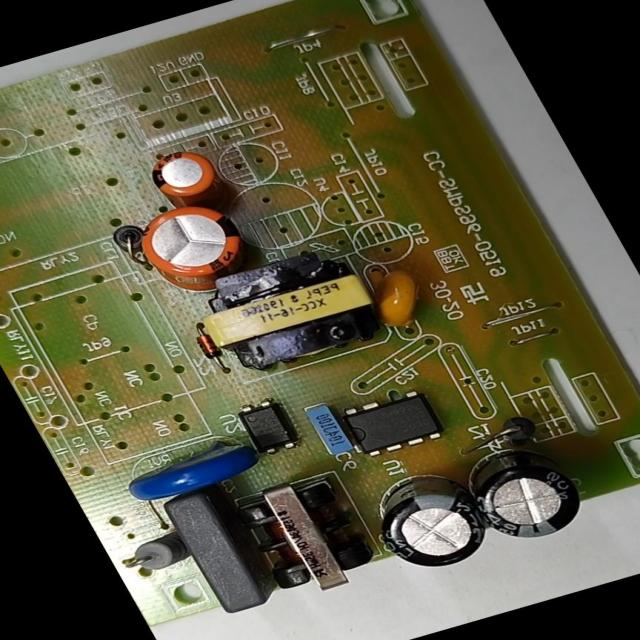Cap1: (116, 186, 271, 305)
Cap2: (117, 130, 246, 216)
Cap3: (340, 447, 511, 592)
Cap4: (440, 418, 615, 562)
MOSFET: (319, 374, 460, 469)
Mov: (91, 411, 280, 515)
Resistor: (104, 525, 200, 586)
Transformer: (150, 220, 420, 400), (190, 442, 410, 610)
